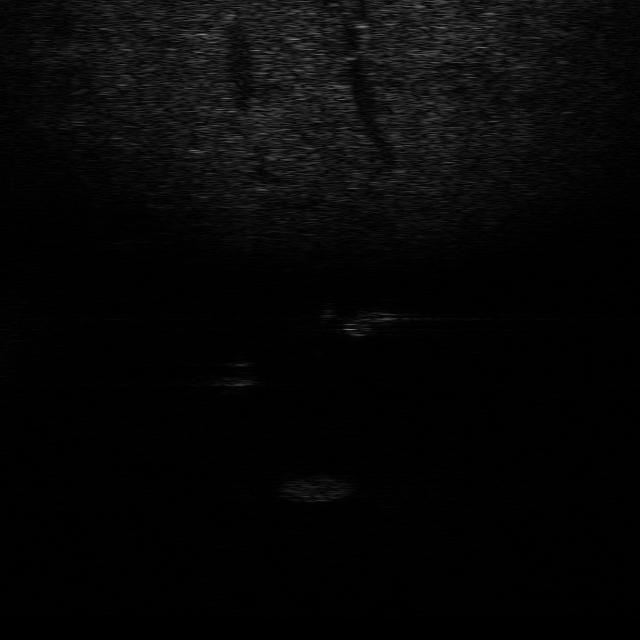ball: (214, 360, 264, 391)
circle cage: (280, 466, 355, 506)
human body: (316, 294, 398, 337)
